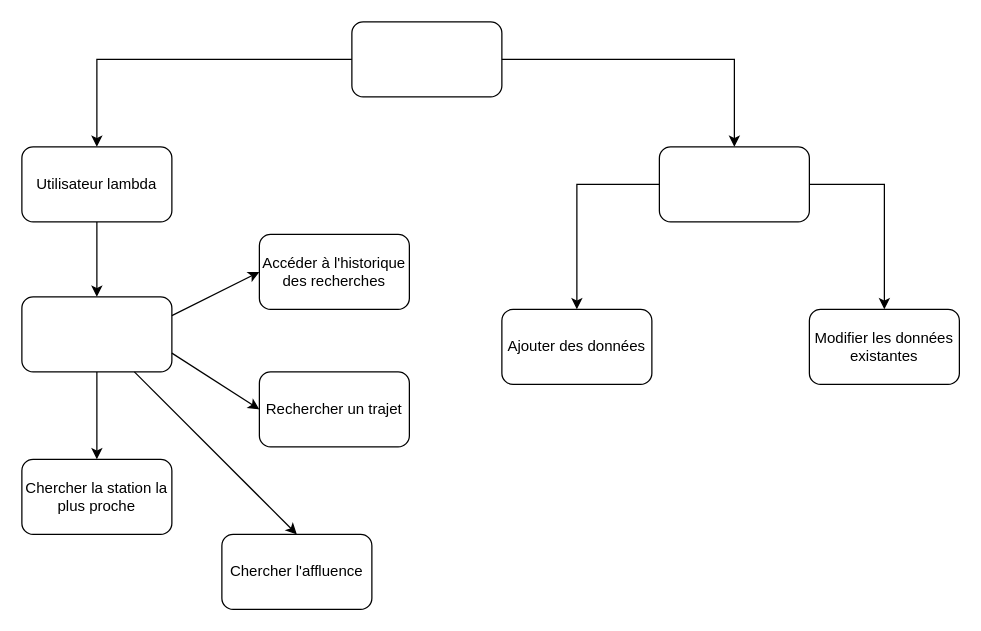
Image size: 981x631. Some labels were removed from this diagram. Each missing label, with the centre of its shape:
Administrateur: point (733, 184)
Avoir des informations sur le réseau cyclable de Nantes: point (426, 59)
Effectuer une recherche: point (96, 334)
